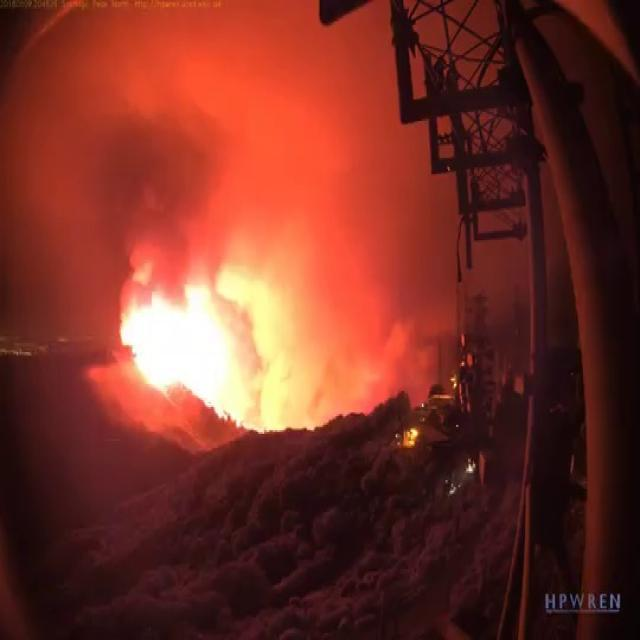Fire: (119, 282, 272, 432)
